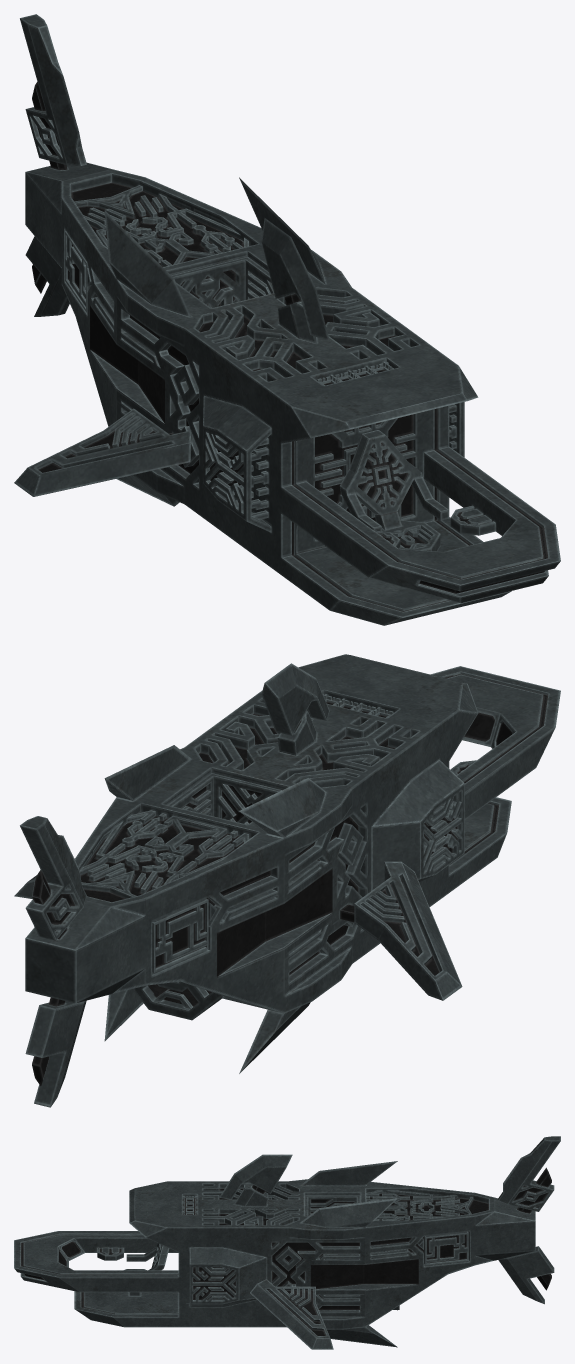
File: Shark.fbx
The picture shows the model from 3 angles, top to bottom: view 1: azimuth 30°, elevation 25°; view 2: azimuth 150°, elevation 25°; view 3: azimuth 270°, elevation 25°; orthographic projection. The views are drawn at different scales.
Visible parts, largest first — view 1: chairSharkeditmerge; view 2: chairSharkeditmerge; view 3: chairSharkeditmerge.
Part boxes in pixels (left/top/right/bottom): chairSharkeditmerge: left=14, top=14, right=560, bottom=625; chairSharkeditmerge: left=14, top=654, right=560, bottom=1107; chairSharkeditmerge: left=14, top=1136, right=560, bottom=1349.
Size of the model in its own units: 1278 by 956 by 2490.
